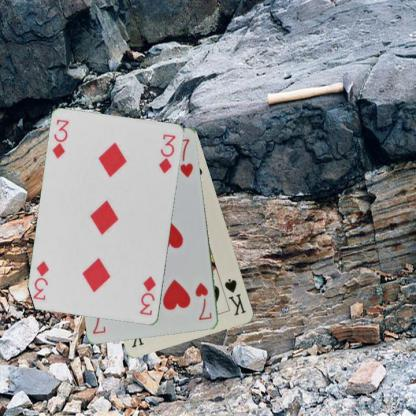3d: (50, 117, 70, 160), (137, 274, 157, 316)
7h: (192, 280, 214, 322)
Ks: (222, 276, 248, 317)
